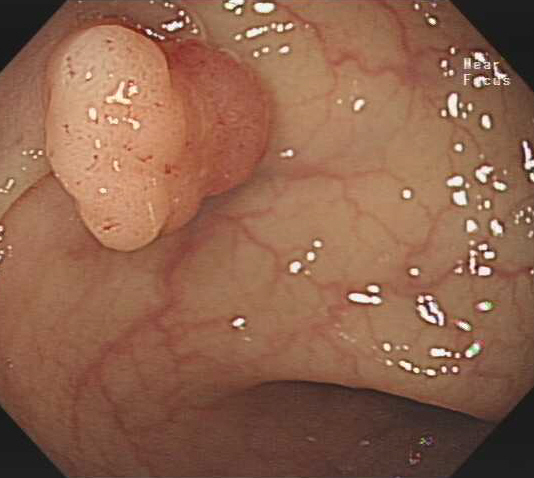adenoma: (44, 22, 272, 254)
